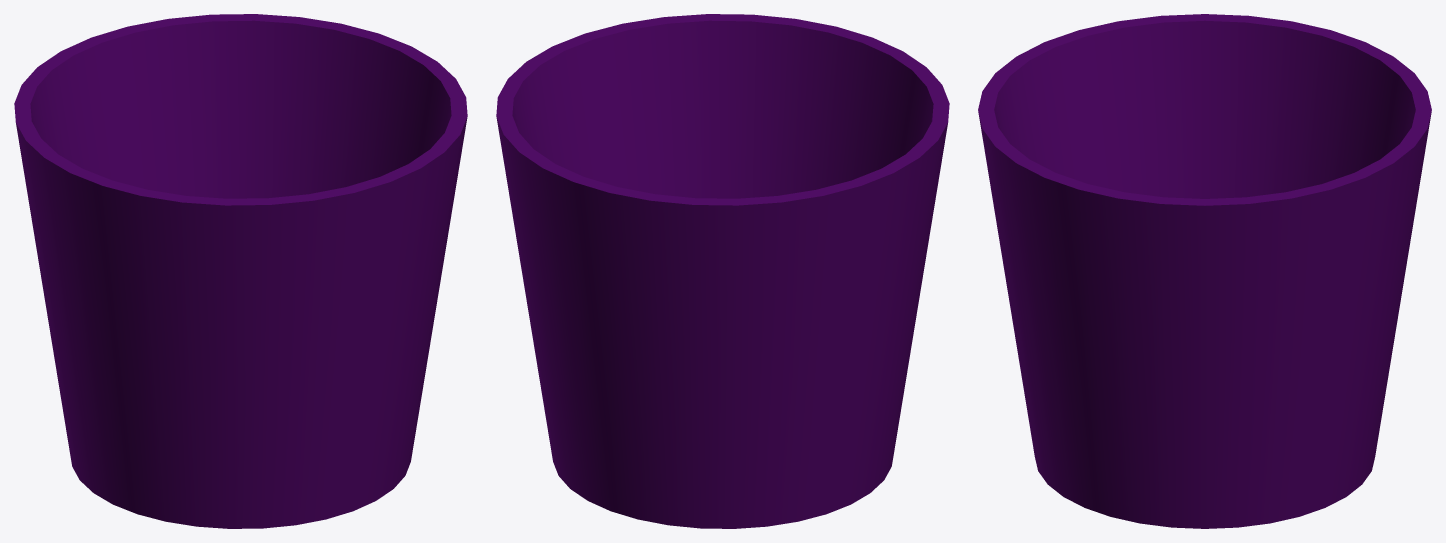
The model's file is Pot_6.fbx.
3 views of the same model, side by side, from view 1: azimuth 30°, elevation 25°; view 2: azimuth 150°, elevation 25°; view 3: azimuth 270°, elevation 25° (orthographic).
Visible parts, largest first — view 1: pCylinder1793; view 2: pCylinder1793; view 3: pCylinder1793.
Part boxes in pixels (left/top/right/bottom): pCylinder1793: left=14, top=14, right=467, bottom=528; pCylinder1793: left=496, top=14, right=949, bottom=528; pCylinder1793: left=978, top=14, right=1431, bottom=528.
Bounding box in the file's own units: 10.75 × 9.07 × 10.75.
